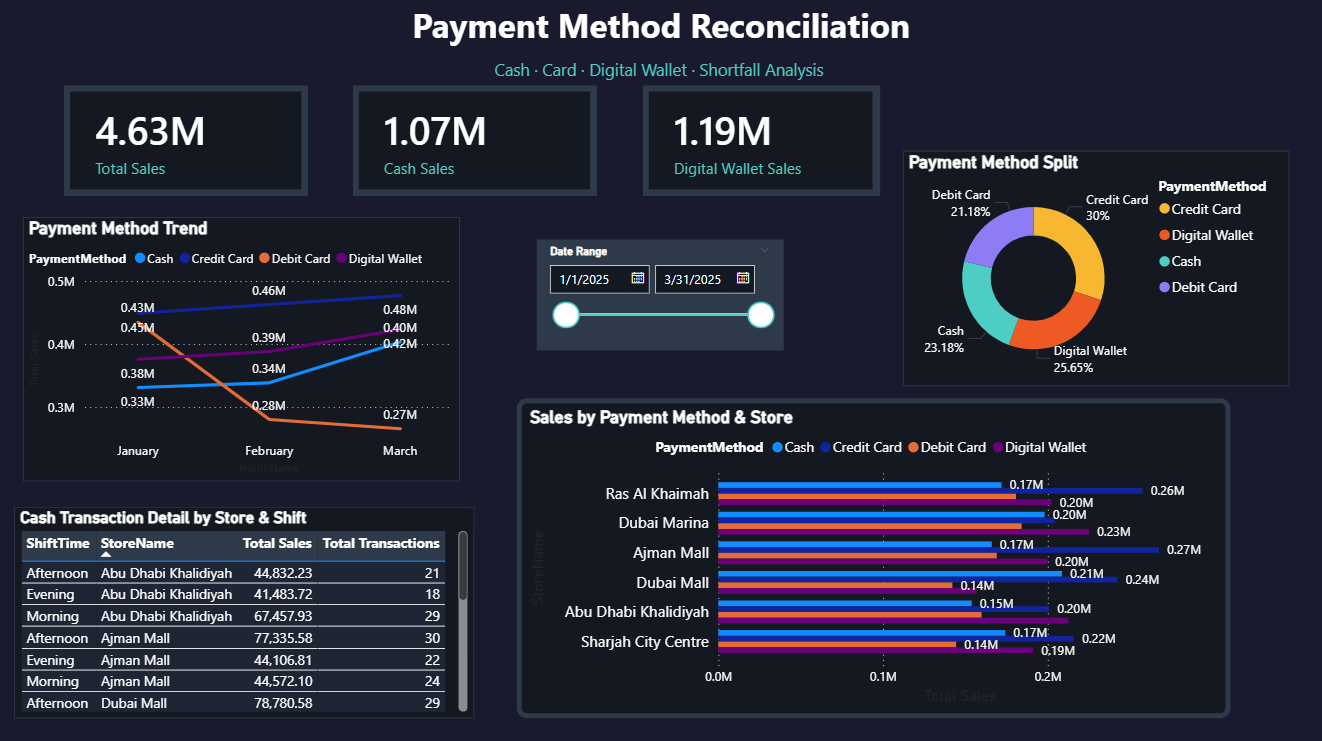

Layout of this report page (visuals, bound fields, positions):
{"tool":"powerbi","page":{"name":"Payment Reconciliation","canvas":[1280,720],"ordinal":3},"visuals":[{"type":"textbox","box":[0,0,1280,65],"z":0},{"type":"textbox","box":[382.5,53.8,511.2,43.8],"z":1000},{"type":"donutChart","title":"Payment Method Split","fields":{"Category":["UAE_Retail_Transactions.PaymentMethod"],"Y":["_Measures.Total Sales"]},"box":[873.8,148.8,372.5,227.5],"z":2000},{"type":"clusteredBarChart","title":"Sales by Payment Method & Store","fields":{"Category":["UAE_Retail_Transactions.StoreName"],"Y":["_Measures.Total Sales"],"Series":["UAE_Retail_Transactions.PaymentMethod"]},"box":[501.2,387.5,688.8,308.8],"z":3000},{"type":"tableEx","title":"Cash Transaction Detail by Store & Shift","fields":{"Values":["UAE_Retail_Transactions.ShiftTime","UAE_Retail_Transactions.StoreName","_Measures.Total Sales","_Measures.Total Transactions"]},"box":[16.2,492.5,443.8,203.8],"z":4000},{"type":"lineChart","title":"Payment Method Trend","fields":{"Category":["DateTable.MonthName"],"Y":["_Measures.Total Sales"],"Series":["UAE_Retail_Transactions.PaymentMethod"]},"box":[23.8,212.5,421.2,255],"z":5000},{"type":"slicer","title":"date","fields":{"Values":["DateTable.Date"]},"box":[520,233.8,237.5,106.2],"z":6000},{"type":"cardVisual","fields":{"Data":["_Measures.Total Sales"]},"box":[63.8,86.2,235,106.2],"z":7000},{"type":"cardVisual","fields":{"Data":["_Measures.Cash Sales"]},"box":[342.5,86.2,235,106.2],"z":8000},{"type":"cardVisual","fields":{"Data":["_Measures.Digital Wallet Sales"]},"box":[622.5,86.2,228.8,106.2],"z":9000}]}

Visuals, with their boxes in screenshot pixels (x1, y1, x2, y2), scaled from the page's 1280x720 canvas onto the 1322x741 screenshot:
textbox: <bbox>0, 0, 1321, 67</bbox>
textbox: <bbox>395, 55, 923, 100</bbox>
"Payment Method Split" donutChart: <bbox>902, 153, 1287, 387</bbox>
"Sales by Payment Method & Store" clusteredBarChart: <bbox>518, 399, 1229, 717</bbox>
"Cash Transaction Detail by Store & Shift" tableEx: <bbox>17, 507, 475, 717</bbox>
"Payment Method Trend" lineChart: <bbox>25, 219, 460, 481</bbox>
"date" slicer: <bbox>537, 241, 782, 350</bbox>
cardVisual - _Measures.Total Sales: <bbox>66, 89, 309, 198</bbox>
cardVisual - _Measures.Cash Sales: <bbox>354, 89, 596, 198</bbox>
cardVisual - _Measures.Digital Wallet Sales: <bbox>643, 89, 879, 198</bbox>
